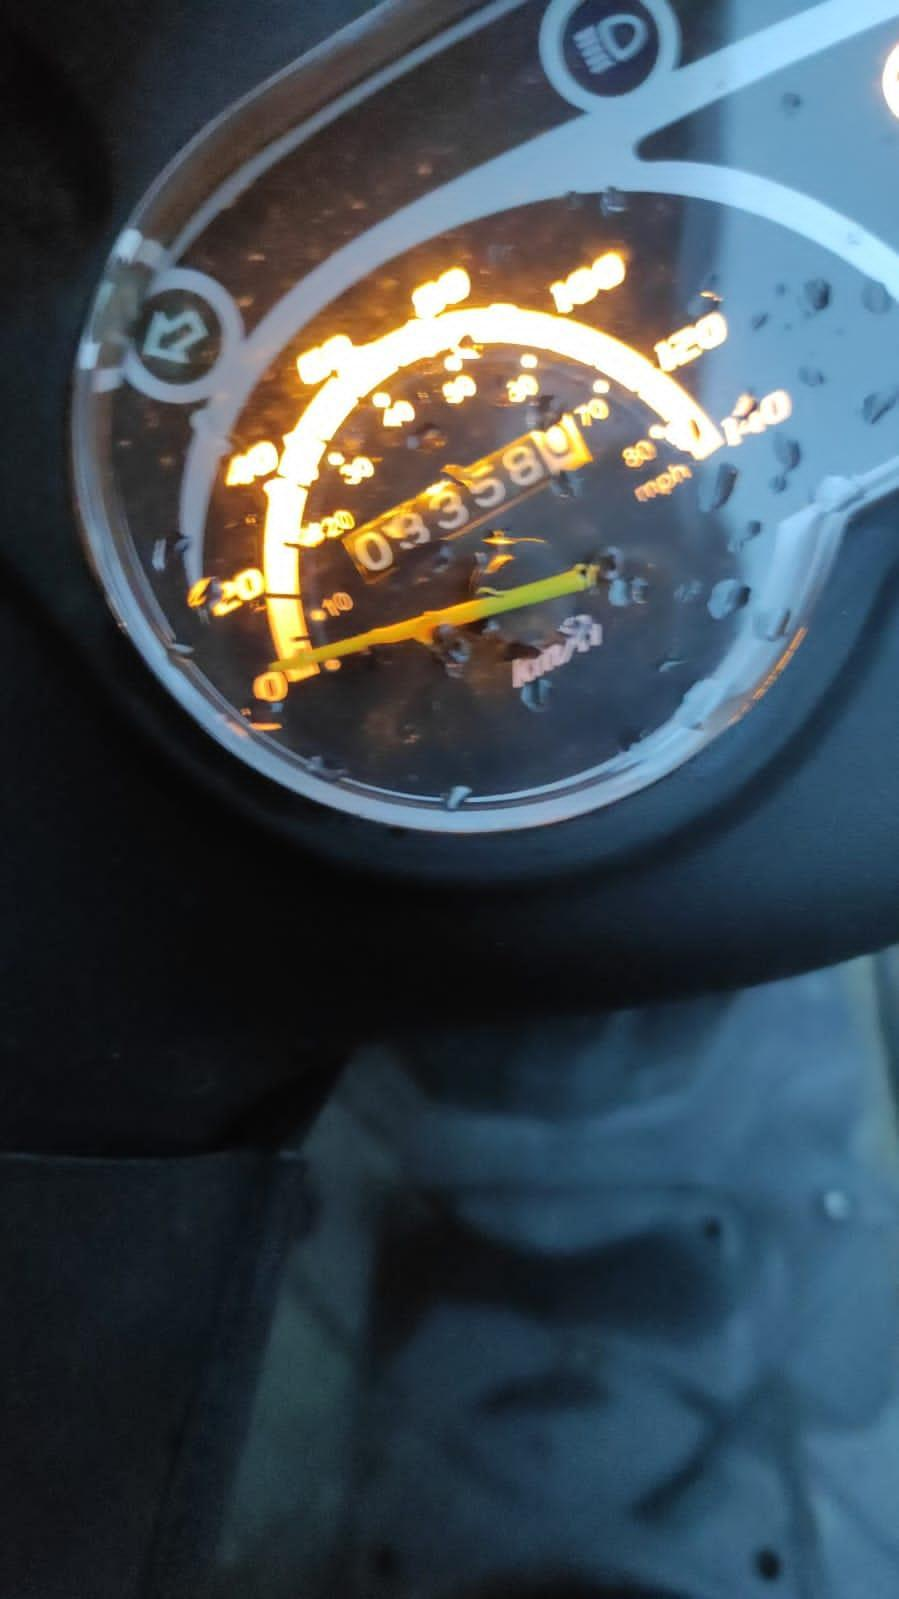0: (352, 533, 394, 577), (540, 420, 576, 462), (353, 454, 375, 477), (338, 507, 353, 528)
3: (425, 487, 471, 532), (339, 462, 363, 487)
5: (463, 459, 508, 508)
7: (574, 404, 591, 429)
8: (499, 446, 547, 485)
9: (384, 514, 431, 549)
odometer: (337, 409, 597, 590)
